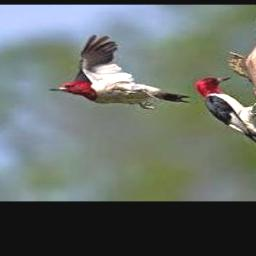Woodpecker: (49, 35, 191, 109), (194, 76, 256, 151)
